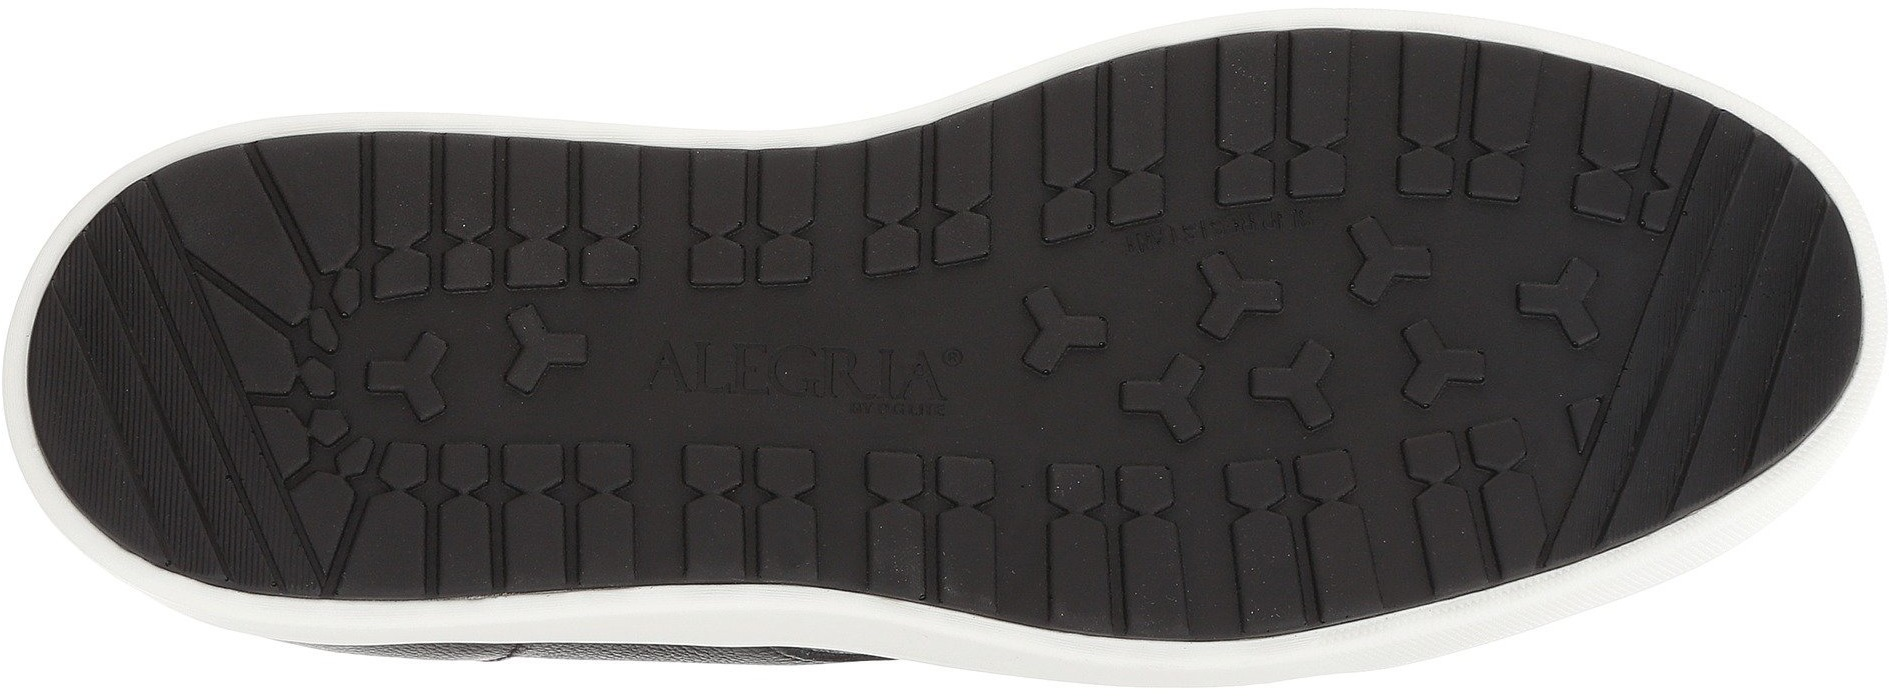bowtie: (1206, 425, 1395, 617), (1379, 54, 1558, 214), (683, 415, 842, 586), (1200, 57, 1369, 217), (866, 440, 1024, 597), (492, 425, 645, 579), (801, 146, 951, 289), (498, 157, 648, 297)
exclude: (157, 611, 979, 694)
quad: (59, 294, 246, 499), (1670, 253, 1856, 423)
star: (1006, 248, 1247, 466), (1269, 222, 1481, 437), (382, 287, 561, 458), (1508, 231, 1644, 359)
text: (639, 306, 773, 427), (767, 309, 896, 435)
